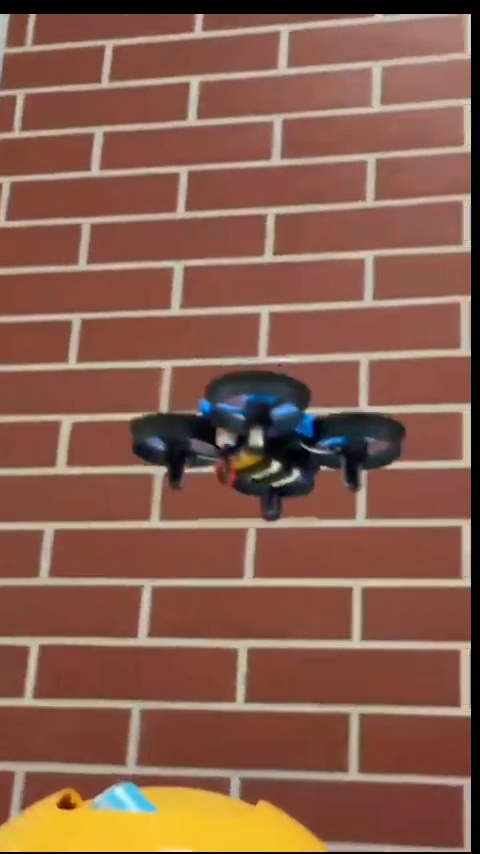drone: (129, 370, 404, 519)
